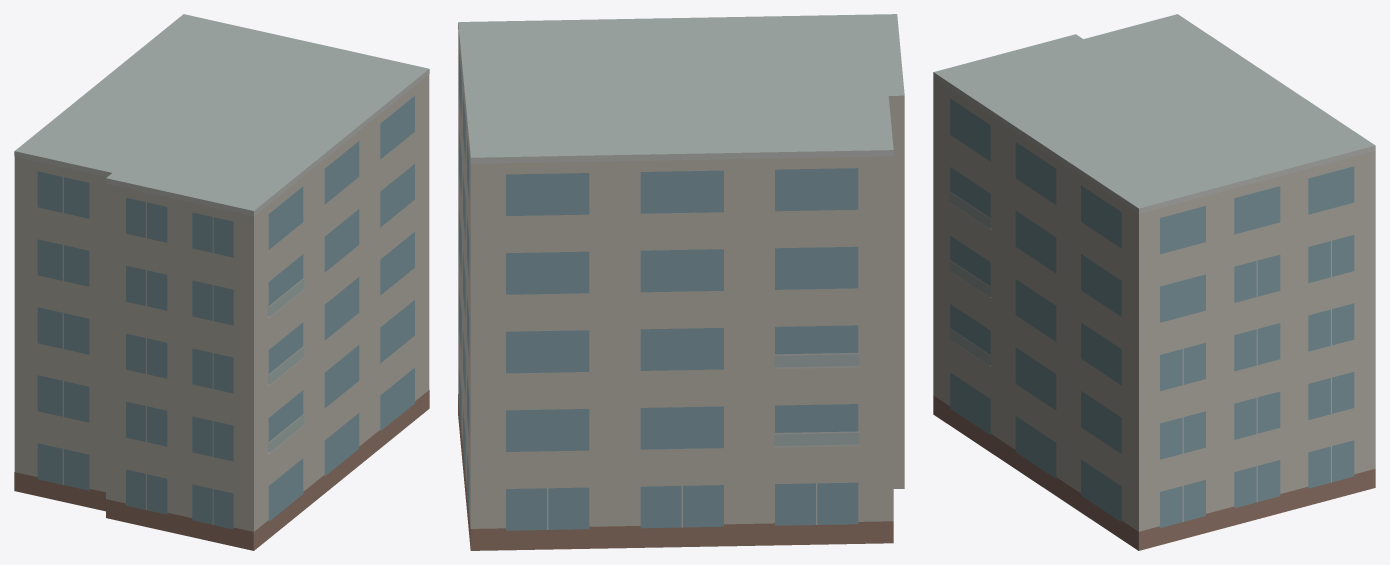
File: survey-upis-33045835.glb
3 renders of one model, left to right at view 1: azimuth 30°, elevation 25°; view 2: azimuth 150°, elevation 25°; view 3: azimuth 270°, elevation 25°, orthographic. The views are drawn at different scales.
Parts seen in each view (by area): view 1: survey-upis-33045835.tmp; view 2: survey-upis-33045835.tmp; view 3: survey-upis-33045835.tmp.
Boxes of the visible parts, x1,y1,x2,y2 form: survey-upis-33045835.tmp: (14, 14, 429, 550); survey-upis-33045835.tmp: (458, 14, 904, 550); survey-upis-33045835.tmp: (933, 14, 1375, 550).
Size of the model in its own units: 19.14 by 15.7 by 18.38.
